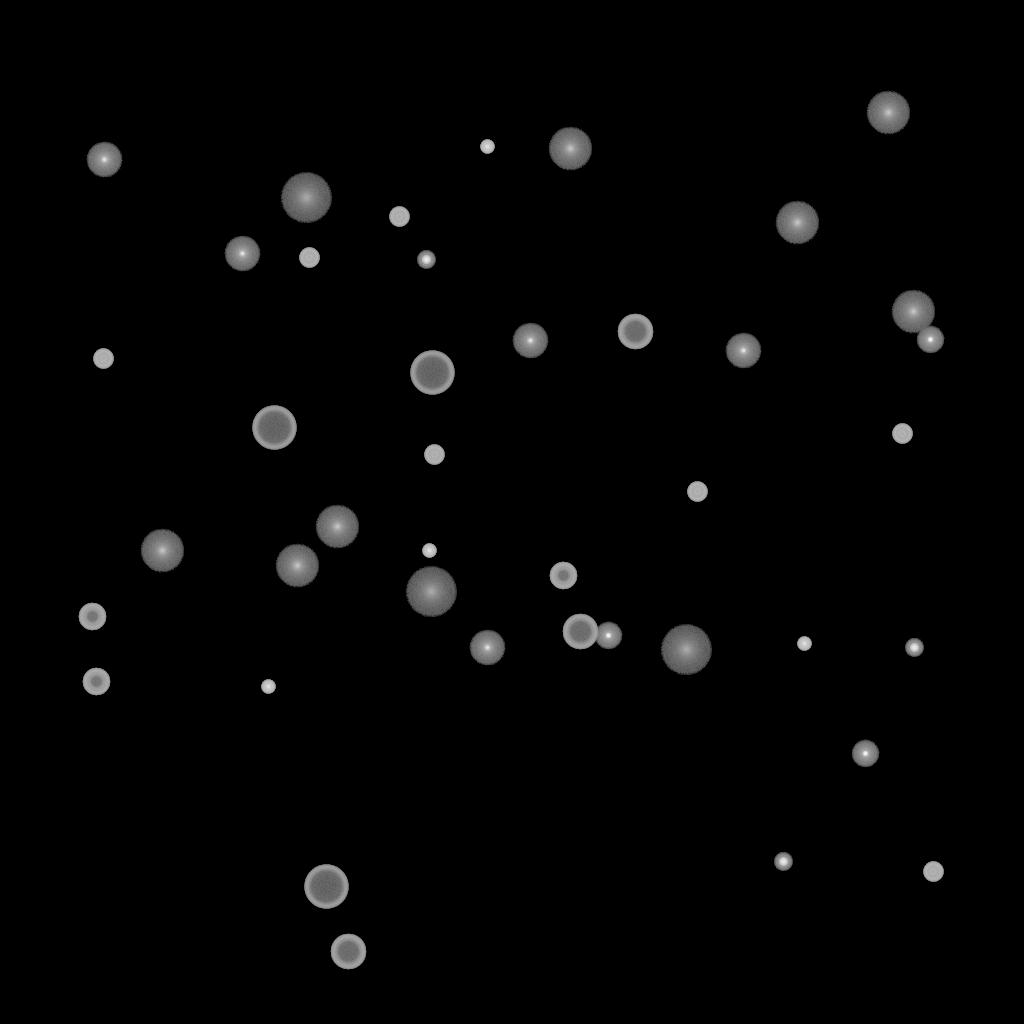depth:-10: (851, 740, 879, 768), (594, 622, 622, 650), (916, 326, 944, 354)
depth:-20: (417, 251, 435, 269), (774, 853, 792, 871), (905, 639, 923, 657)
depth:-30: (797, 637, 811, 651), (261, 680, 275, 694), (480, 140, 494, 154), (422, 544, 436, 558)
depth:-40: (389, 207, 409, 227), (687, 482, 707, 502), (424, 445, 444, 465), (299, 248, 319, 268), (923, 862, 943, 882), (93, 349, 113, 369), (892, 424, 912, 444)
depth:-50: (82, 668, 110, 696), (78, 603, 106, 631), (549, 562, 577, 590)
depth:-60: (330, 934, 366, 970), (562, 614, 598, 650), (617, 314, 653, 350)
depth:-70: (252, 406, 296, 450), (304, 865, 348, 909), (410, 351, 454, 395)
depth:0: (86, 142, 122, 178), (224, 236, 260, 272), (512, 323, 548, 359), (469, 630, 505, 666), (725, 333, 761, 369)
depth:10: (275, 544, 319, 588), (548, 127, 592, 171), (891, 290, 935, 334), (315, 505, 359, 549), (866, 91, 910, 135), (775, 201, 819, 245), (140, 529, 184, 573)
depth:20: (280, 173, 332, 223), (405, 567, 457, 617), (660, 625, 712, 675)
